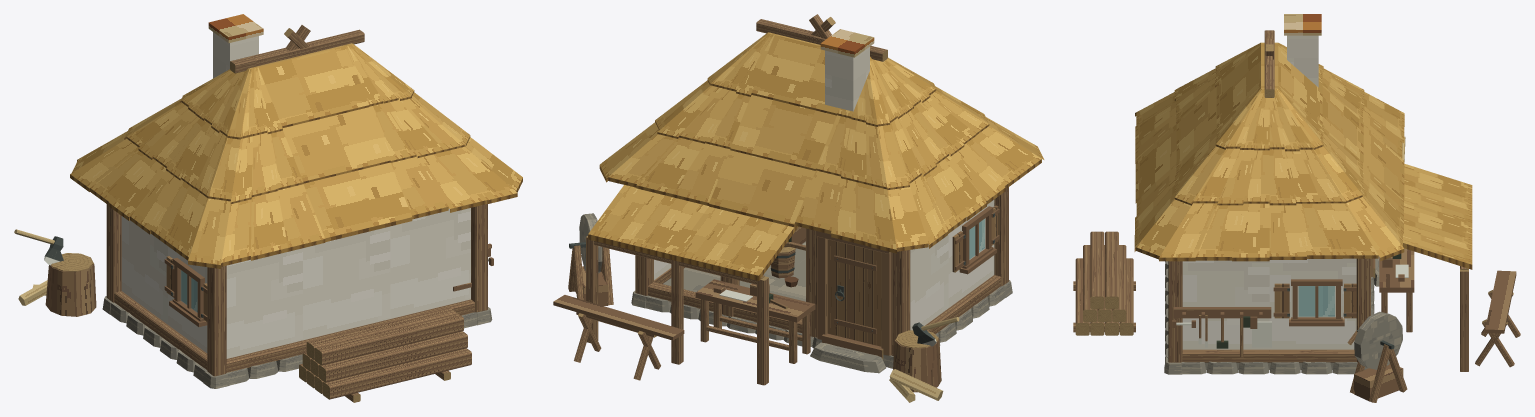
The model's file is tool_workshop.glb.
3 views of the same model, side by side, from view 1: azimuth 30°, elevation 25°; view 2: azimuth 150°, elevation 25°; view 3: azimuth 270°, elevation 25° (orthographic). The views are drawn at different scales.
Parts seen in each view (by area): view 1: Tool_Workshop; view 2: Tool_Workshop; view 3: Tool_Workshop.
Boxes of the visible parts, <box> form: Tool_Workshop: <box>14,14,522,402</box>; Tool_Workshop: <box>553,14,1044,402</box>; Tool_Workshop: <box>1073,14,1520,402</box>.
Bounding box in the file's own units: 8.03 × 5.33 × 8.01.
Materials: 1 (1 with a texture image).
